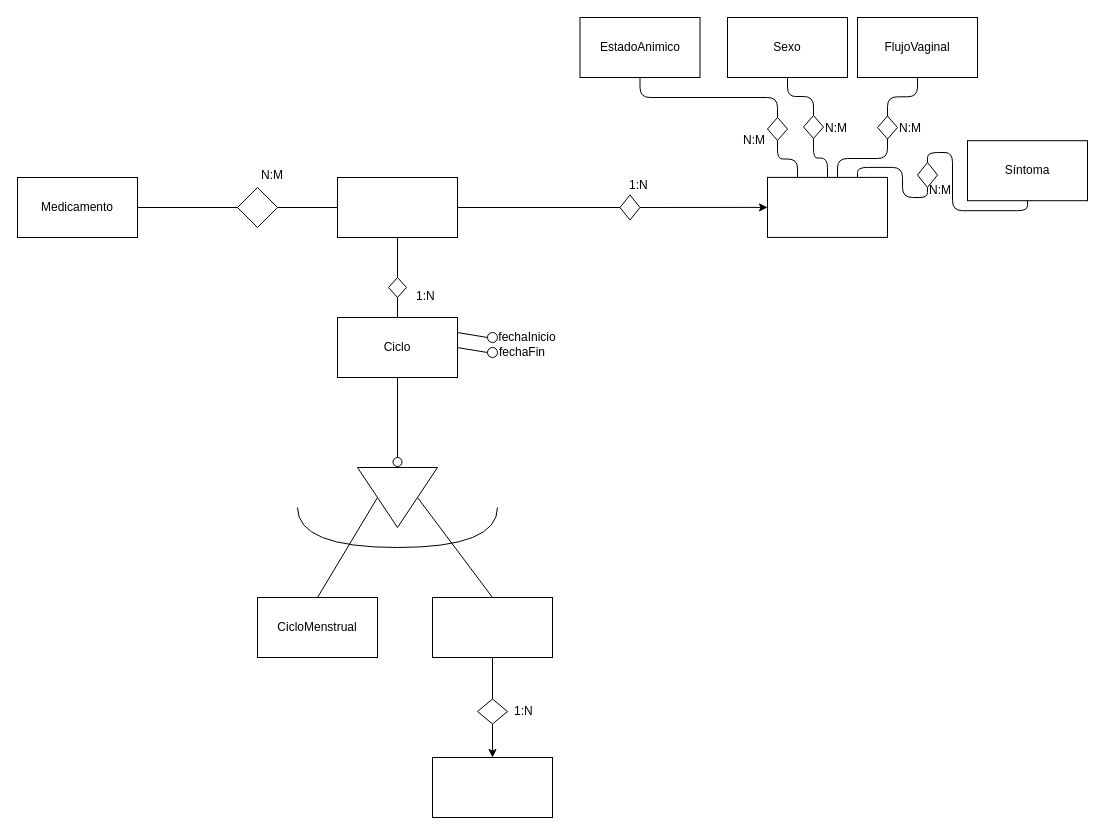
The diagram is 1105 pixels wide and 835 high, and some of its shapes have lost their labels. Here are the shapes that lost their labels. From the top down, the box of each, then its label:
(336, 176, 458, 238): Usuaria
(766, 176, 888, 237): RevisionPersonal
(432, 596, 552, 658): Embarazo
(432, 756, 552, 818): RevisionMedica
